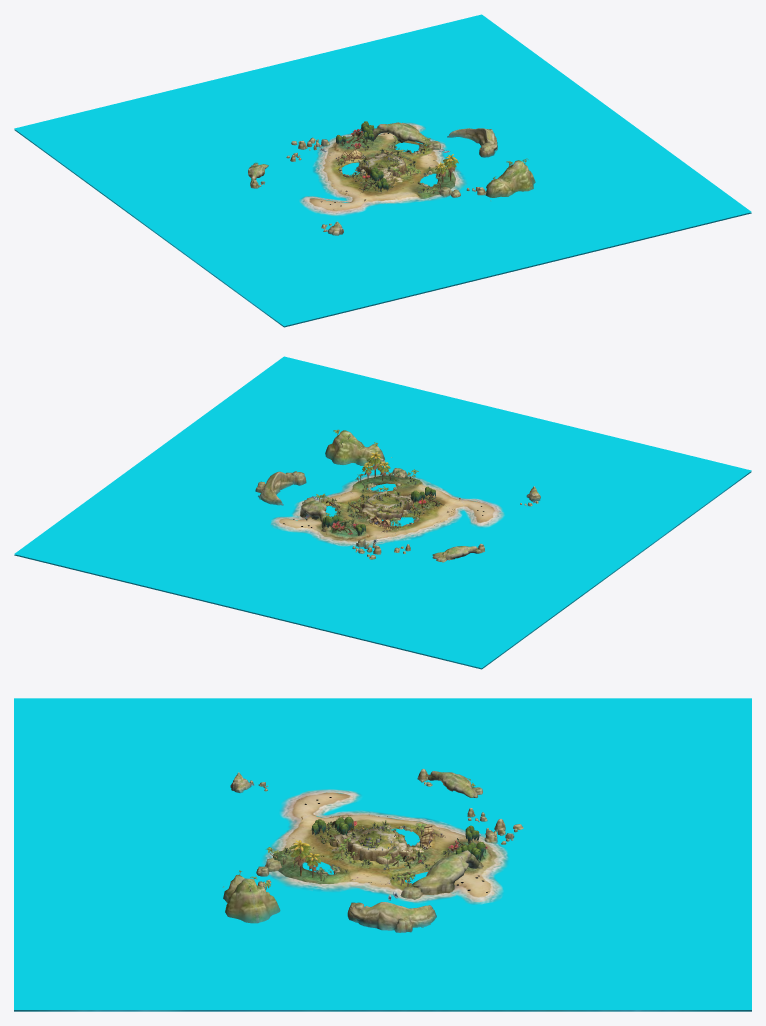
File: febg_tropical_004_01.glb
The picture shows the model from 3 angles, top to bottom: view 1: azimuth 30°, elevation 25°; view 2: azimuth 150°, elevation 25°; view 3: azimuth 270°, elevation 25°; orthographic projection. The views are drawn at different scales.
Parts seen in each view (by area): view 1: febg_tropical_004_water_01, febg_tropical_004_bg_01, febg_tropical_004_wave_01, febg_tropical_004_water_base, febg_tropical_004_boulder_02, febg_tropical_004_boulder_01, febg_tropical_004_boulder_03, febg_tropical_004_water_02; view 2: febg_tropical_004_water_01, febg_tropical_004_bg_01, febg_tropical_004_wave_01, febg_tropical_004_water_base, febg_tropical_004_boulder_02, febg_tropical_004_boulder_03; view 3: febg_tropical_004_water_01, febg_tropical_004_bg_01, febg_tropical_004_wave_01, febg_tropical_004_boulder_03, febg_tropical_004_boulder_02, febg_tropical_004_boulder_01, febg_tropical_004_water_base, febg_tropical_004_boulder_01 (1), febg_tropical_004_water_02.
Boxes of the visible parts, bbox=[...] form: febg_tropical_004_water_01: bbox=[14, 14, 751, 326]; febg_tropical_004_bg_01: bbox=[309, 125, 455, 211]; febg_tropical_004_wave_01: bbox=[299, 122, 466, 215]; febg_tropical_004_water_base: bbox=[14, 129, 751, 327]; febg_tropical_004_boulder_02: bbox=[485, 160, 535, 197]; febg_tropical_004_boulder_01: bbox=[367, 122, 430, 145]; febg_tropical_004_boulder_03: bbox=[447, 128, 497, 153]; febg_tropical_004_water_02: bbox=[341, 142, 437, 186]; febg_tropical_004_water_01: bbox=[14, 356, 751, 668]; febg_tropical_004_bg_01: bbox=[279, 475, 494, 545]; febg_tropical_004_wave_01: bbox=[270, 473, 504, 546]; febg_tropical_004_water_base: bbox=[14, 471, 751, 669]; febg_tropical_004_boulder_02: bbox=[325, 430, 384, 465]; febg_tropical_004_boulder_03: bbox=[255, 471, 293, 505]; febg_tropical_004_water_01: bbox=[14, 698, 751, 1009]; febg_tropical_004_bg_01: bbox=[273, 792, 498, 901]; febg_tropical_004_wave_01: bbox=[262, 789, 508, 904]; febg_tropical_004_boulder_03: bbox=[350, 902, 436, 932]; febg_tropical_004_boulder_02: bbox=[223, 875, 280, 923]; febg_tropical_004_boulder_01: bbox=[412, 850, 483, 895]; febg_tropical_004_water_base: bbox=[14, 1010, 751, 1011]; febg_tropical_004_boulder_01 (1): bbox=[427, 771, 477, 797]; febg_tropical_004_water_02: bbox=[302, 828, 427, 883].
Bounding box in the file's own units: 406 × 30.27 × 406.
9 materials, 8 textured.
